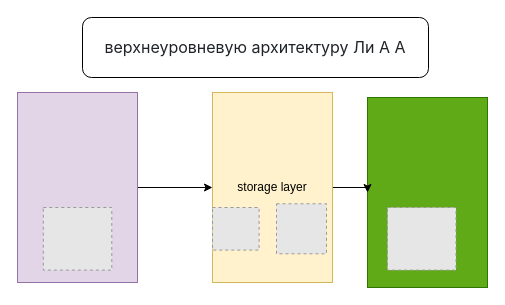
This 505x305 diagram has some shape labels left out. Grey dashed boxes stand in for pictures. The shapes that lost their labels are listed below. From the top down, each one's box as (x1, y1, x2, y2) in pixels, then its label:
(16, 92, 138, 282): sourse layer
(366, 96, 488, 288): business layer
